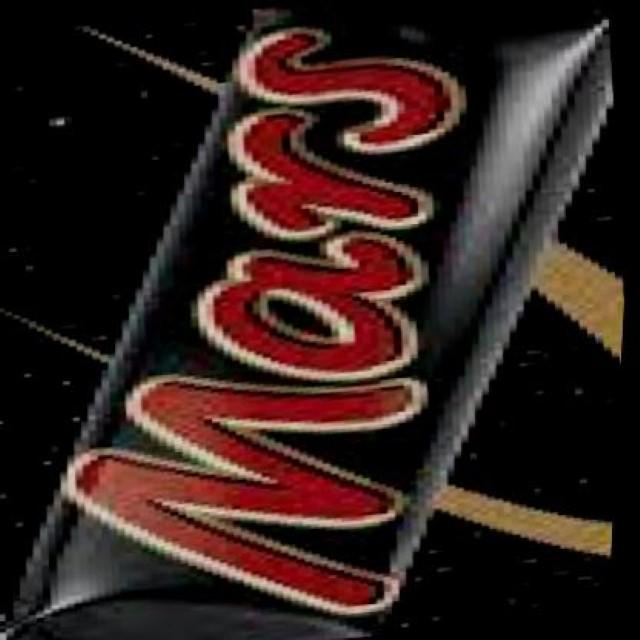mars_chocolate: (11, 23, 599, 640)
